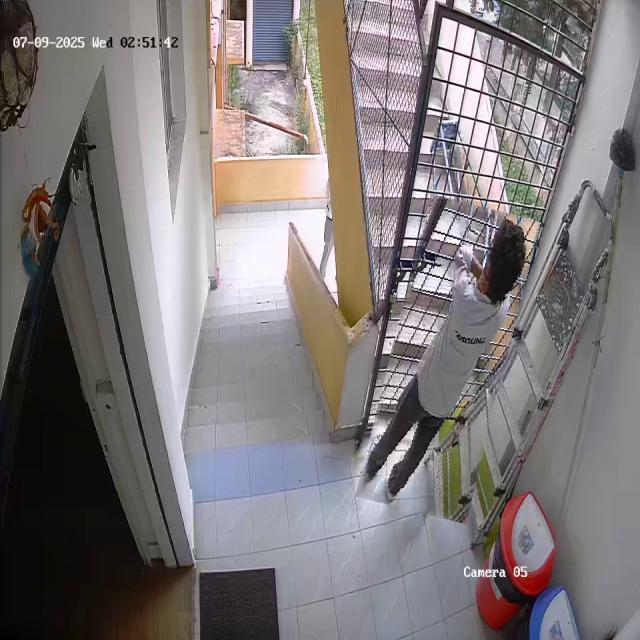person: (374, 198, 524, 520)
